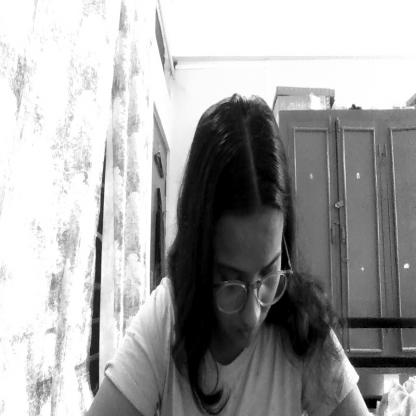Normal: (188, 104, 289, 353)
